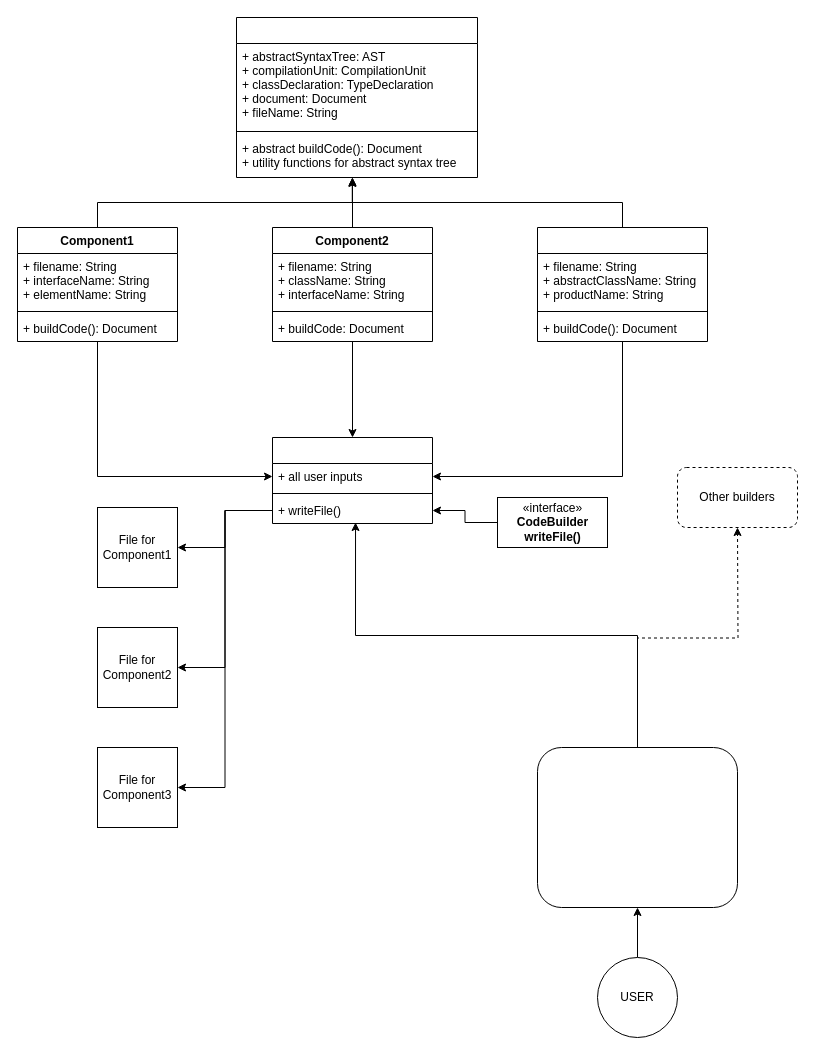
The diagram is 815 pixels wide and 1055 high, and some of its shapes have lost their labels. The shapes that lost their labels are listed below. From the top down, each one's box as (x1, y1, x2, y2) in pixels, then its label:
(236, 16, 478, 178): abstract CodeGenerator
(536, 226, 708, 342): Component3
(272, 436, 432, 524): Builder
(536, 746, 738, 908): DesignPatternFactory
